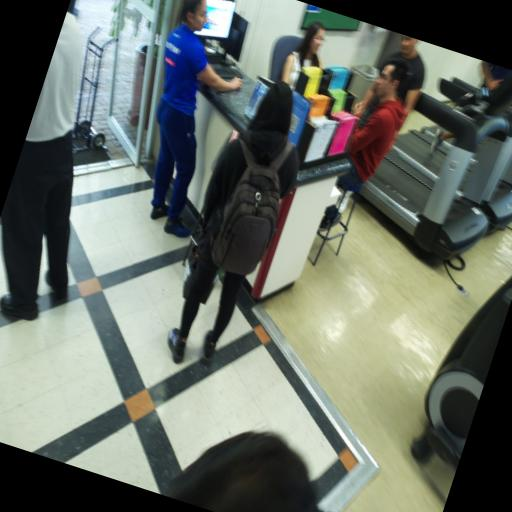person: (168, 81, 292, 362), (0, 13, 82, 320), (151, 0, 241, 237), (168, 432, 319, 511), (337, 59, 407, 186), (381, 35, 425, 118), (281, 21, 325, 89), (481, 61, 511, 91), (67, 0, 76, 13)
